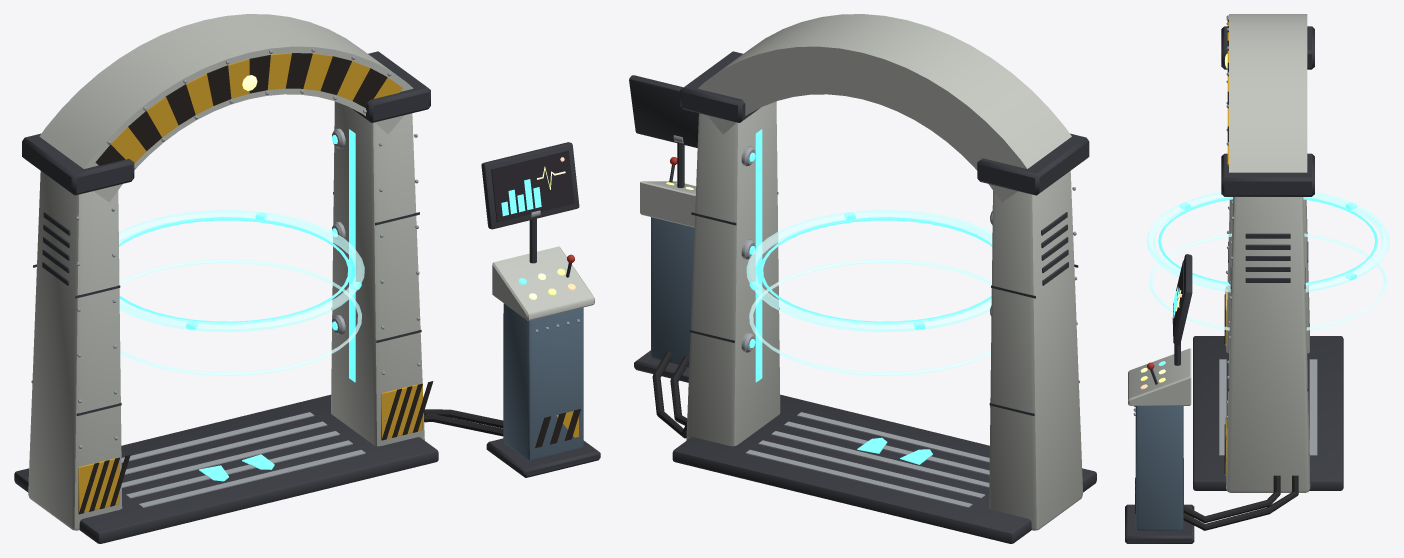
File: deco_med_scanner.fbx
3 views of the same model, side by side, from view 1: azimuth 30°, elevation 25°; view 2: azimuth 150°, elevation 25°; view 3: azimuth 270°, elevation 25° (orthographic). The views are drawn at different scales.
Visible parts, largest first — view 1: MedScanner_Arch, MedScanner_Pedestal, MedScanner_Ring, MedScanner_Screen; view 2: MedScanner_Arch, MedScanner_Pedestal, MedScanner_Ring, MedScanner_Screen; view 3: MedScanner_Arch, MedScanner_Pedestal, MedScanner_Ring, MedScanner_Screen.
Boxes of the visible parts, left/top/right/bottom form: MedScanner_Arch: left=14, top=14, right=438, bottom=543; MedScanner_Pedestal: left=424, top=246, right=600, bottom=477; MedScanner_Ring: left=119, top=209, right=364, bottom=375; MedScanner_Screen: left=481, top=142, right=579, bottom=263; MedScanner_Arch: left=672, top=14, right=1096, bottom=543; MedScanner_Pedestal: left=634, top=157, right=695, bottom=438; MedScanner_Ring: left=746, top=209, right=992, bottom=375; MedScanner_Screen: left=629, top=75, right=698, bottom=187; MedScanner_Arch: left=1193, top=14, right=1343, bottom=492; MedScanner_Pedestal: left=1125, top=348, right=1298, bottom=543; MedScanner_Ring: left=1146, top=191, right=1389, bottom=330; MedScanner_Screen: left=1172, top=254, right=1192, bottom=365.
Bounding box in the file's own units: 323 × 281 × 176.
